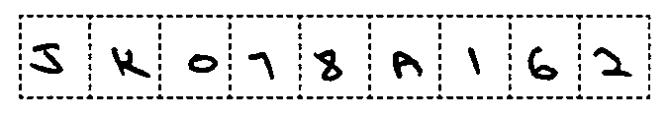0: (184, 48, 224, 81)
1: (453, 40, 490, 82)
2: (584, 40, 638, 84)
6: (520, 41, 564, 86)
7: (241, 45, 285, 86)
8: (306, 43, 353, 86)
A: (387, 46, 426, 86)
J: (24, 37, 68, 81)
K: (106, 40, 154, 84)
